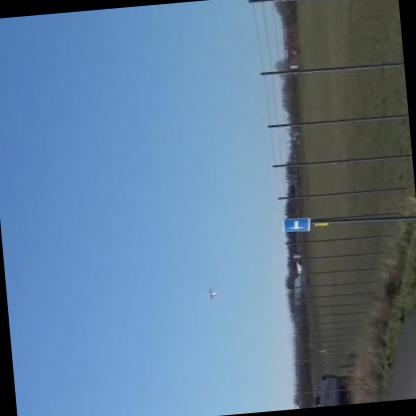plane: (204, 284, 223, 304)
